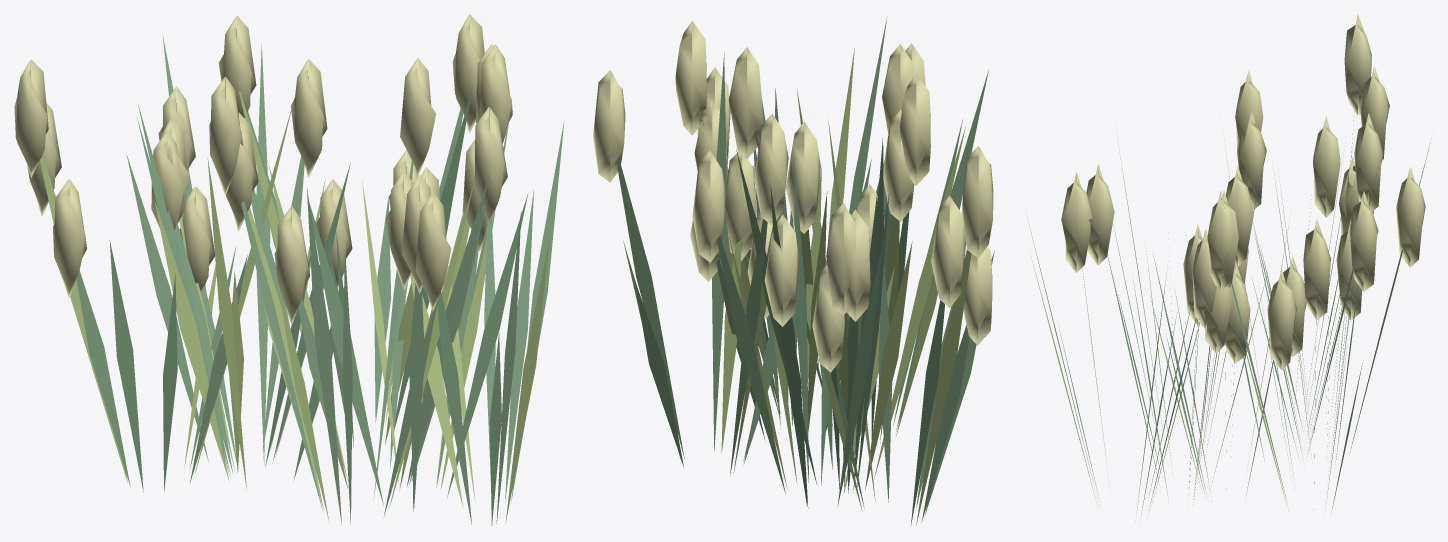
File: sedge_river.glb
The picture shows the model from 3 angles, left to right: view 1: azimuth 30°, elevation 25°; view 2: azimuth 150°, elevation 25°; view 3: azimuth 270°, elevation 25°; orthographic projection. The views are drawn at different scales.
Parts seen in each view (by area): view 1: sedge_river; view 2: sedge_river; view 3: sedge_river.
Part boxes in pixels (<box>): sedge_river: <box>14,14,564,525</box>; sedge_river: <box>593,16,994,525</box>; sedge_river: <box>1028,14,1430,517</box>.
Size of the model in its own units: 1.82 by 1.69 by 1.7.
